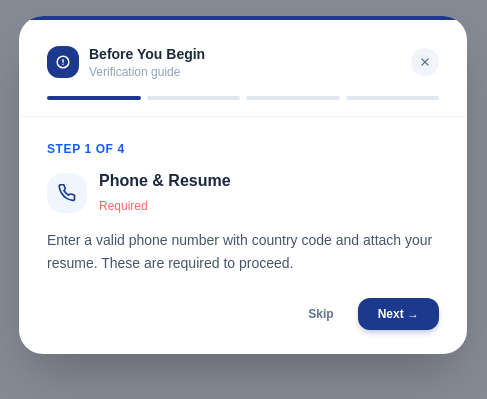
it: VerificationInstructionsModal component › navigates through steps using Next and Back buttons
The width and height of the screenshot is (487, 399).
expect the text "Step 1 of 4" is shown: met, box left=47, top=142, right=125, bottom=156
expect the heading "Phone & Resume" is shown: met, box left=99, top=169, right=231, bottom=193
Click the button "Next →" at (398, 314), box left=358, top=298, right=439, bottom=330
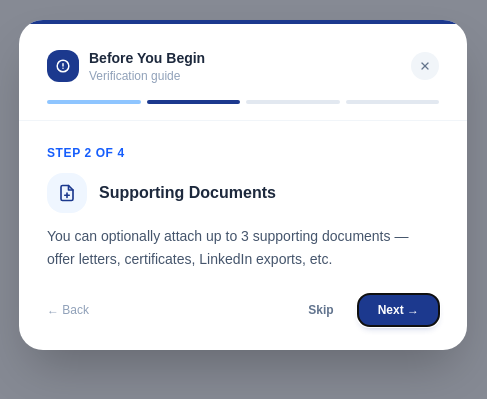
expect the text "Step 2 of 4" is shown: met, box left=47, top=146, right=125, bottom=160
expect the heading "Supporting Documents" is shown: met, box left=99, top=181, right=276, bottom=205
expect the button "← Back" is enabled: met
Click back
Click the button "← Back" at (68, 310), box left=47, top=302, right=89, bottom=318
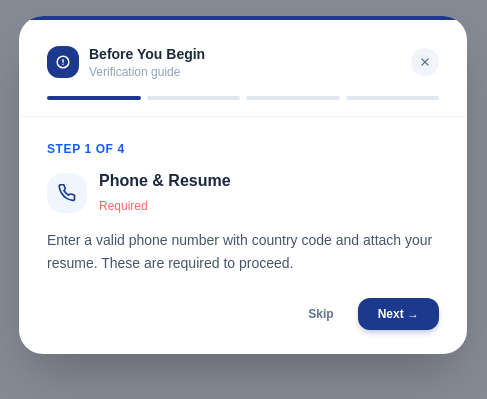
expect the text "Step 1 of 4" is shown: met, box left=47, top=142, right=125, bottom=156
